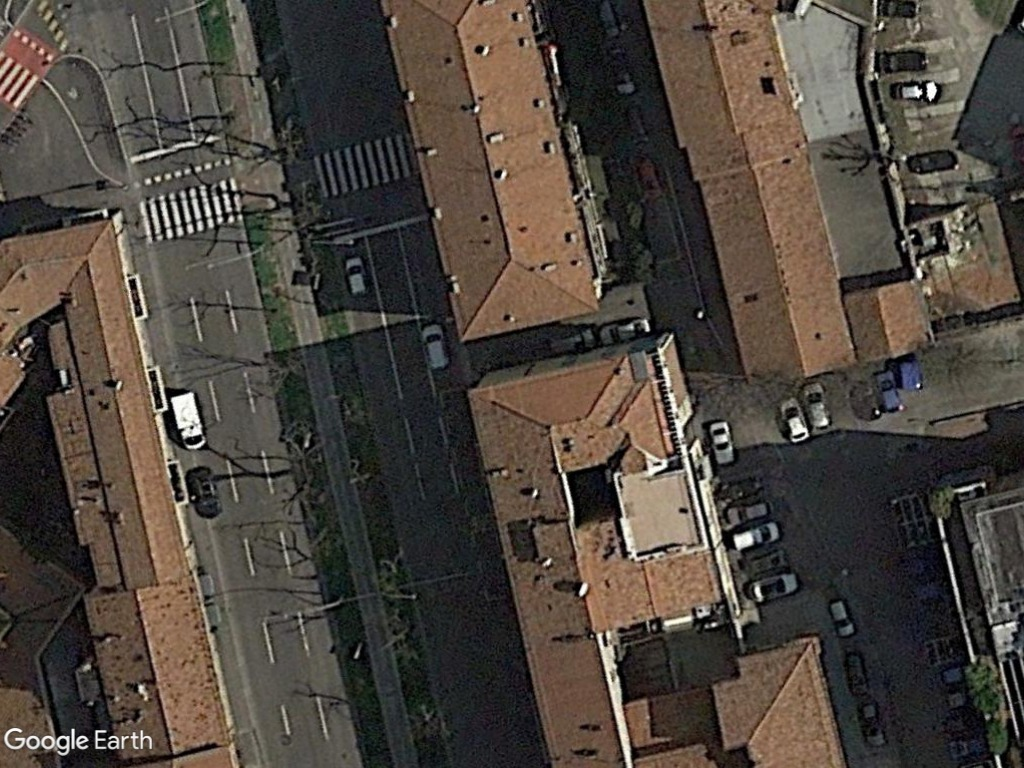car: (185, 462, 224, 522), (743, 567, 801, 606), (727, 518, 787, 555), (797, 380, 837, 434), (415, 319, 454, 373), (772, 393, 811, 447), (868, 365, 907, 417), (704, 417, 740, 469), (824, 593, 859, 642), (885, 78, 944, 107), (340, 254, 372, 300)
truck: (164, 387, 211, 454)
